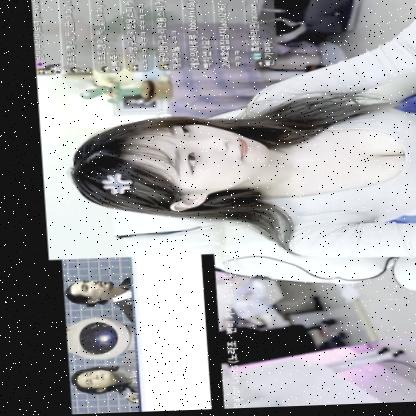streamer: (55, 14, 416, 273)
